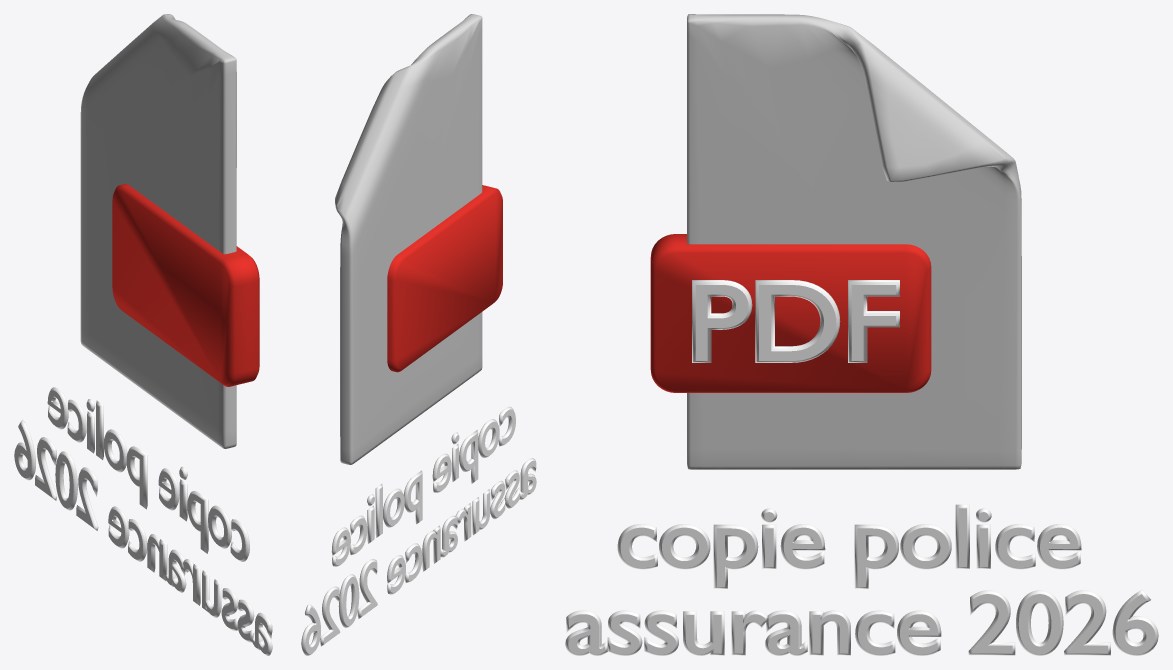
File: PDF_copie_police_assurance.fbx
The picture shows the model from 3 angles, left to right: view 1: azimuth 30°, elevation 25°; view 2: azimuth 150°, elevation 25°; view 3: azimuth 270°, elevation 25°; orthographic projection. The views are drawn at different scales.
Visible parts, largest first — view 1: PDFName.001, Text.008; view 2: PDFName.001, Text.008; view 3: PDFName.001, Text.008.
Part boxes in pixels (x1=…): PDFName.001: x1=80, y1=14, x2=259, y2=448; Text.008: x1=14, y1=387, x2=272, y2=655; PDFName.001: x1=335, y1=14, x2=502, y2=464; Text.008: x1=301, y1=406, x2=536, y2=655; PDFName.001: x1=650, y1=14, x2=1021, y2=469; Text.008: x1=565, y1=504, x2=1158, y2=655.
Size of the model in its own units: 59.34 by 496 by 412.
